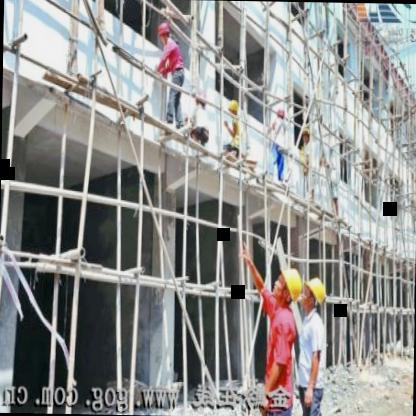helmet: (301, 276, 326, 318), (278, 265, 300, 310), (226, 97, 240, 123), (157, 19, 171, 44)
